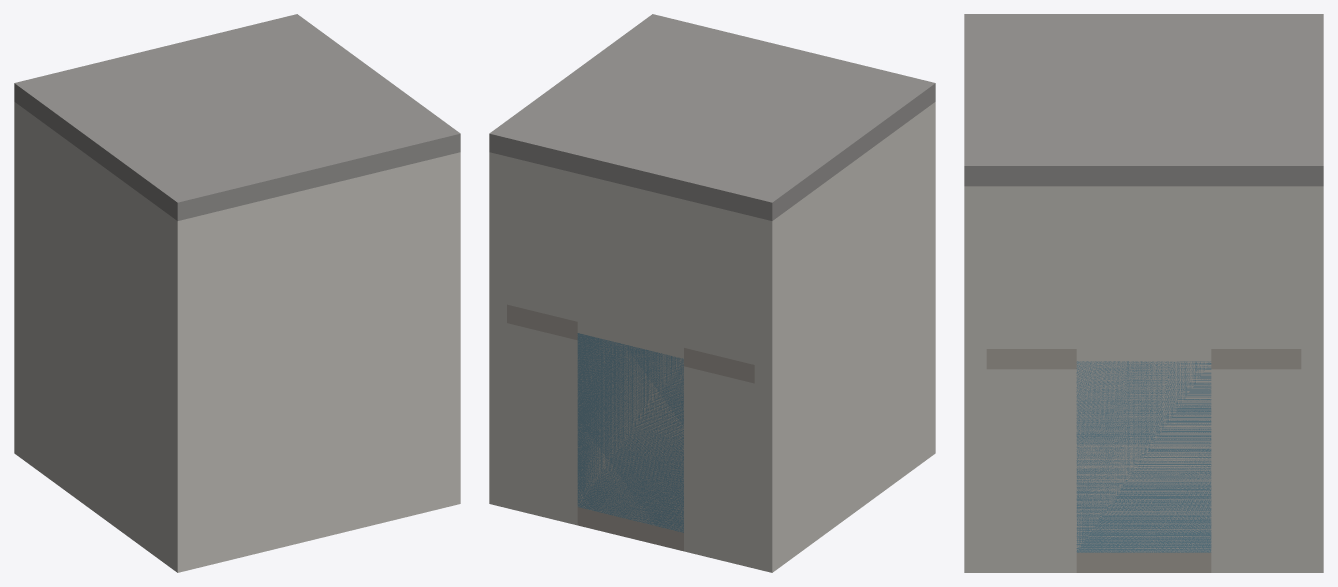
The model's file is canal-bend.glb.
3 views of the same model, side by side, from view 1: azimuth 30°, elevation 25°; view 2: azimuth 150°, elevation 25°; view 3: azimuth 270°, elevation 25° (orthographic). The views are drawn at different scales.
Parts seen in each view (by area): view 1: wall_3, ceiling_1, wall_10, wall_1, wall_8; view 2: ceiling_1, wall_1, plug_canal_north, wall_8, water_1, wall_4, wall_5, plug_canal_north.001, wall_11, wall_2, wall_9, floor_1 (+2 smaller); view 3: ceiling_1, plug_canal_east, water_2, plug_canal_east.001, wall_6, wall_7, wall_12, wall_2, wall_3, wall_9, wall_10, floor_2 (+2 smaller).
Boxes of the visible parts, x1,y1,x2,y2 form: wall_3: [195, 300, 460, 568]; ceiling_1: [14, 14, 460, 220]; wall_10: [195, 152, 460, 364]; wall_1: [14, 250, 195, 572]; wall_8: [14, 102, 195, 369]; ceiling_1: [489, 14, 935, 220]; wall_1: [754, 250, 935, 572]; plug_canal_north: [507, 175, 754, 364]; wall_8: [754, 102, 935, 369]; water_1: [577, 333, 683, 532]; wall_4: [684, 366, 754, 568]; wall_5: [507, 323, 577, 525]; plug_canal_north.001: [577, 322, 683, 531]; wall_11: [507, 156, 754, 235]; wall_2: [489, 300, 506, 507]; wall_9: [489, 152, 506, 304]; floor_1: [577, 507, 683, 551]; ceiling_1: [964, 14, 1323, 186]; plug_canal_east: [986, 206, 1301, 348]; water_2: [1076, 361, 1211, 552]; plug_canal_east.001: [1076, 349, 1211, 552]; wall_6: [1211, 369, 1301, 572]; wall_7: [986, 369, 1076, 572]; wall_12: [986, 186, 1301, 206]; wall_2: [1301, 349, 1323, 572]; wall_3: [964, 349, 986, 572]; wall_9: [1301, 186, 1323, 348]; wall_10: [964, 186, 986, 348]; floor_2: [1076, 552, 1211, 572].
Bounding box in the file's own units: 8 × 10 × 8.
